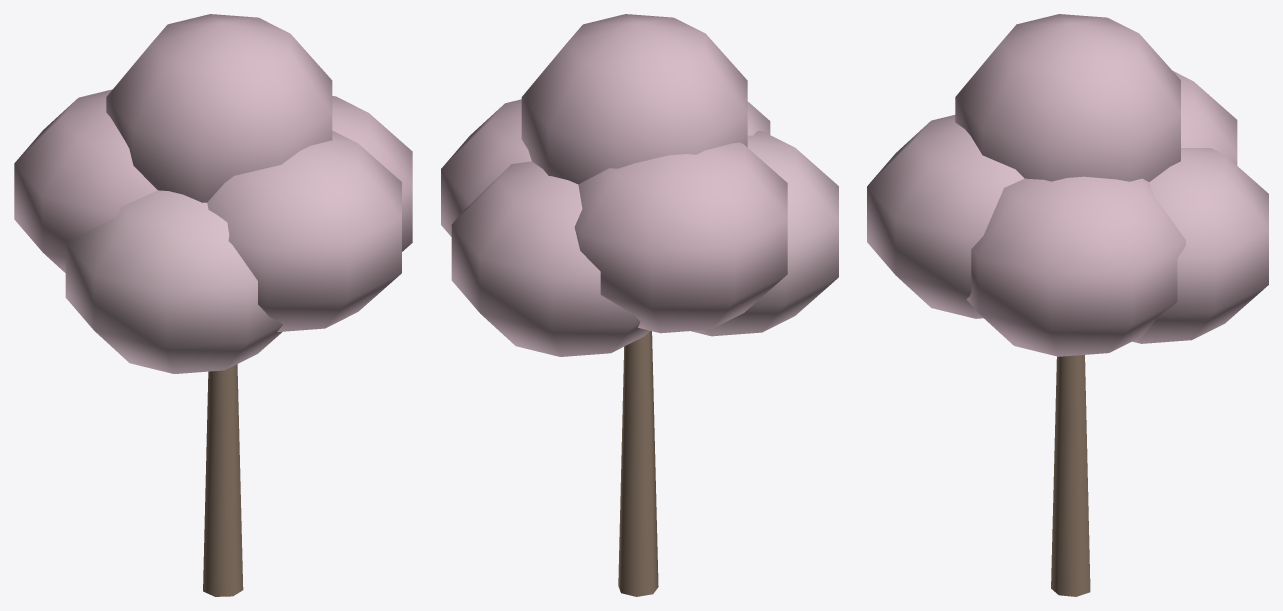
3 renders of one model, left to right at view 1: azimuth 30°, elevation 25°; view 2: azimuth 150°, elevation 25°; view 3: azimuth 270°, elevation 25°, orthographic.
Parts seen in each view (by area): view 1: Visual; view 2: Visual; view 3: Visual.
Boxes of the visible parts, x1,y1,x2,y2 form: Visual: (14, 14, 412, 596); Visual: (441, 14, 838, 596); Visual: (867, 14, 1268, 596).
Bounding box in the file's own units: 9.12 × 14.31 × 9.22.
